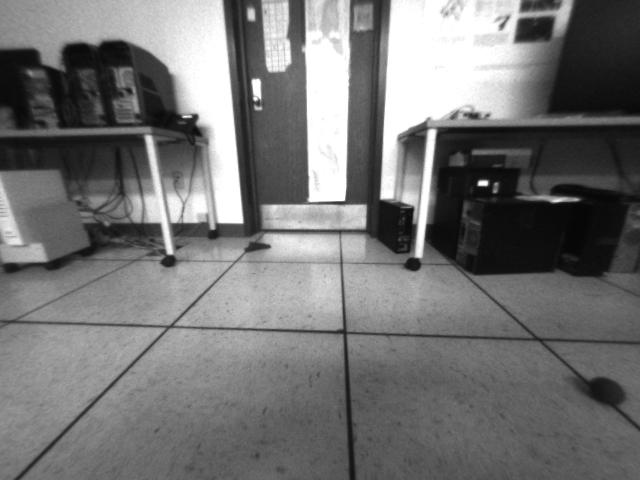dogtoy: (580, 364, 631, 411)
